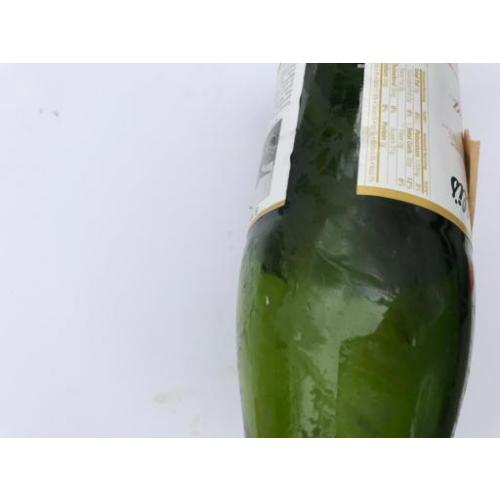glass: (238, 64, 472, 436)
